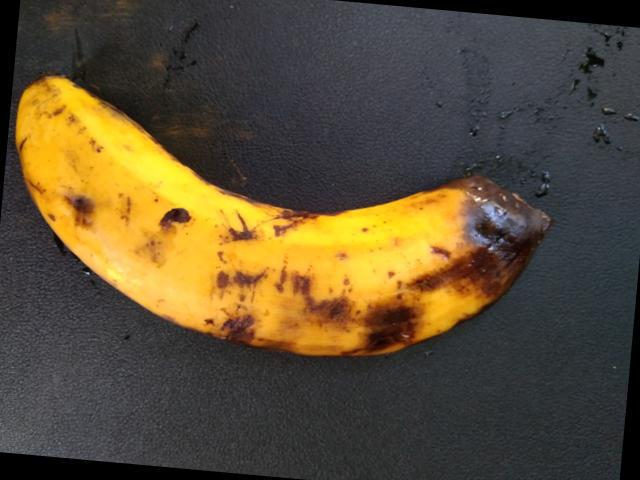overripe: (4, 62, 372, 389)
rotten: (308, 170, 569, 383)
